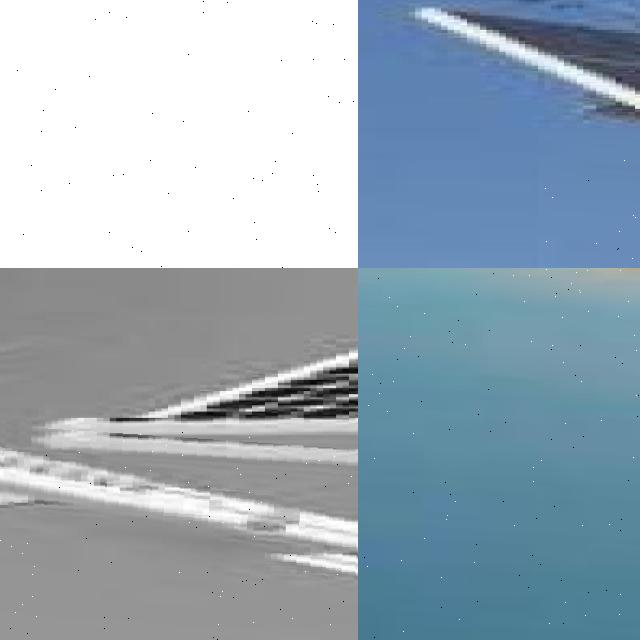street light: (358, 268, 640, 640), (0, 0, 358, 268), (0, 418, 358, 640)
